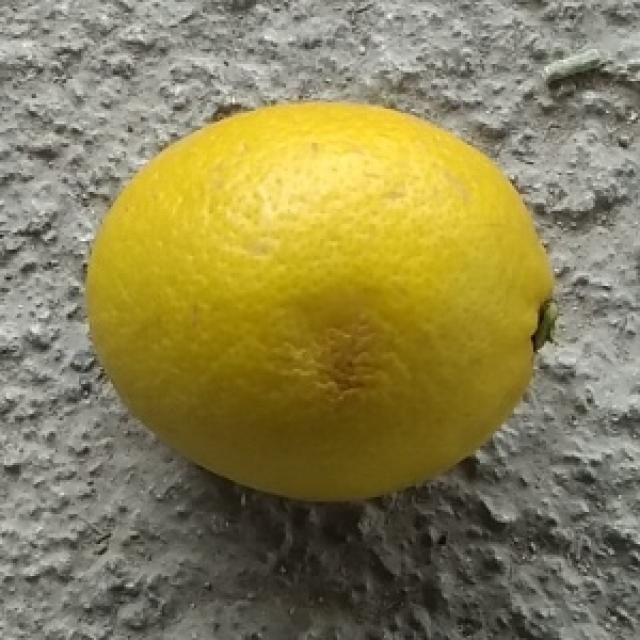Ripe: (79, 96, 566, 507)
